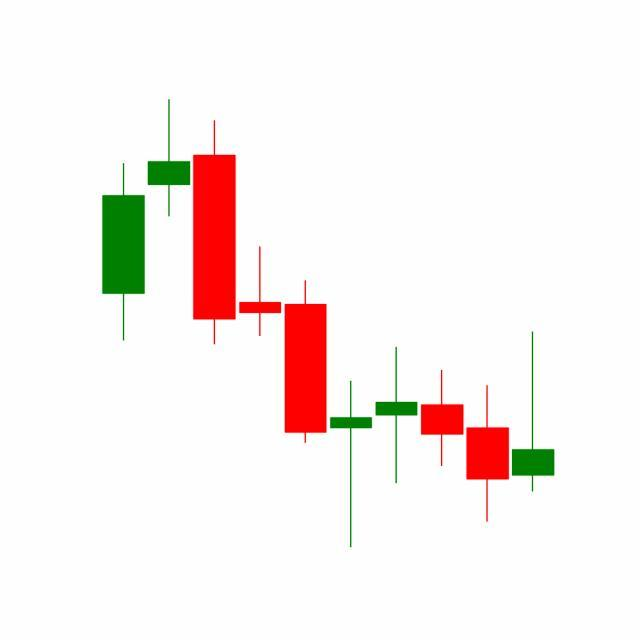Hikkake Pattern: (283, 277, 512, 549)
